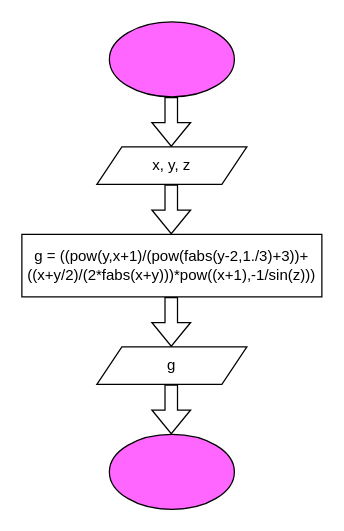
Some shapes in this 344 by 531 pixel diagram are drawn without their labels. Here are the shapes that lost their labels. From the top down, the box of each, then its label:
(108, 21, 234, 97): НАЧАЛО
(108, 433, 234, 509): КОНЕЦ
